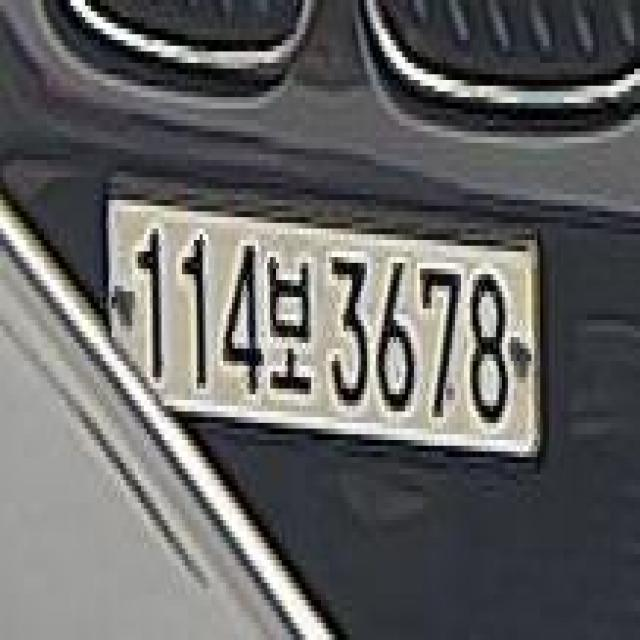illegal_plate: (119, 175, 548, 486)
